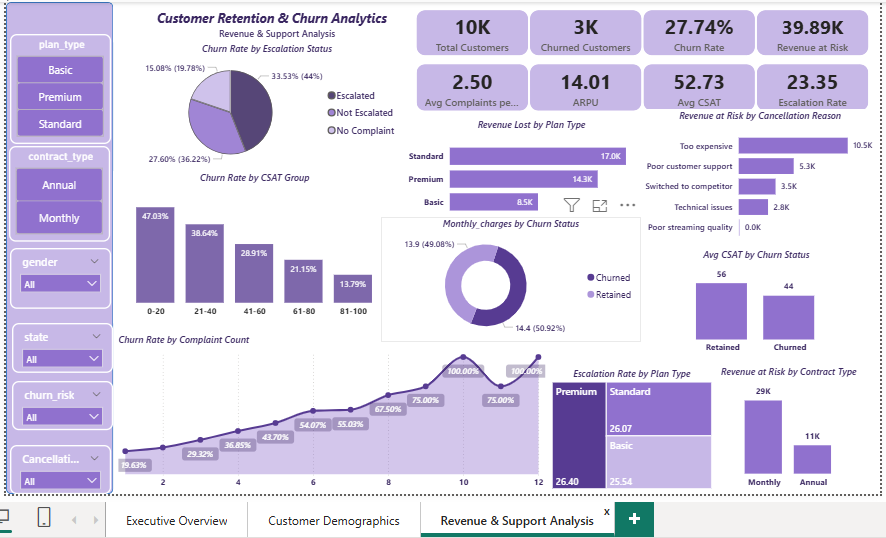

The page's visual inventory and layout, read from the dashboard file:
{"tool":"powerbi","page":{"name":"Revenue & Support Analysis","canvas":[1280,720],"ordinal":2},"visuals":[{"type":"cardVisual","fields":{"Data":["exported_churn_data_NEW.Avg Complaints per User","exported_churn_data_NEW.ARPU","exported_churn_data_NEW.Avg CSAT","exported_churn_data_NEW.Escalation Rate"]},"box":[583.9,79,695.1,92.2],"z":0},{"type":"pieChart","fields":{"Category":["exported_churn_data_NEW.Escalation Status"],"Y":["exported_churn_data_NEW.Churn Rate"]},"box":[181.3,58.4,401.1,189],"z":1000},{"type":"cardVisual","fields":{"Data":["exported_churn_data_NEW.Total Customers","exported_churn_data_NEW.Churned Customers","exported_churn_data_NEW.Churn Rate","exported_churn_data_NEW.Revenue at Risk"]},"box":[583.9,0,696.6,90.7],"z":2000},{"type":"shape","box":[0,0,157,720],"z":3000},{"type":"shape","box":[153.7,0,553.2,49.8],"z":4000},{"type":"textbox","box":[156.6,0,425.9,58.5],"z":5000},{"type":"clusteredColumnChart","fields":{"Category":["exported_churn_data_NEW.CSAT Group"],"Y":["exported_churn_data_NEW.Churn Rate"]},"box":[156.7,247.4,414.9,222.8],"z":6000},{"type":"lineChart","title":"Churn Rate by Complaint Count","fields":{"Category":["exported_churn_data_NEW.complaint_count"],"Y":["exported_churn_data_NEW.Churn Rate"]},"box":[159.8,484,634.6,236.6],"z":7000},{"type":"advancedSlicerVisual","fields":{"Values":["exported_churn_data_NEW.plan_type"]},"box":[5.9,46.8,147.8,161],"z":8000},{"type":"advancedSlicerVisual","fields":{"Values":["exported_churn_data_NEW.contract_type"]},"box":[4.4,210.7,147.8,140.5],"z":9000},{"type":"slicer","fields":{"Values":["exported_churn_data_NEW.gender"]},"box":[5.9,360,147.8,89.3],"z":10000},{"type":"slicer","fields":{"Values":["exported_churn_data_NEW.state"]},"box":[8.8,469.8,147.8,73.2],"z":11000},{"type":"slicer","fields":{"Values":["exported_churn_data_NEW.churn_risk"]},"box":[8.8,554.6,147.8,71.7],"z":12000},{"type":"slicer","fields":{"Values":["exported_churn_data_NEW.Cancellation Year"]},"box":[5.9,648.3,147.8,71.7],"z":13000},{"type":"barChart","title":"Revenue Lost by Plan Type","fields":{"Category":["exported_churn_data_NEW.plan_type"],"Y":["exported_churn_data_NEW.Revenue at Risk"]},"box":[582.4,169,373.4,155.2],"z":14000},{"type":"clusteredColumnChart","fields":{"Category":["exported_churn_data_NEW.Churn Status"],"Y":["exported_churn_data_NEW.Avg CSAT"]},"box":[916.1,360,364.4,163.9],"z":15000},{"type":"donutChart","title":"Monthly_charges by Churn Status","fields":{"Category":["exported_churn_data_NEW.Churn Status"],"Y":["Avg(exported_churn_data_NEW.monthly_charges)"]},"box":[548.8,314.6,380.5,182.9],"z":16000},{"type":"barChart","title":"Revenue at Risk by Cancellation Reason","fields":{"Category":["exported_churn_data_NEW.cancellation_reason"],"Y":["Sum(exported_churn_data_NEW.monthly_charges)"]},"box":[929.7,156.7,348.8,202.8],"z":17000},{"type":"clusteredColumnChart","title":"Revenue at Risk by Contract Type","fields":{"Category":["exported_churn_data_NEW.contract_type"],"Y":["exported_churn_data_NEW.Revenue at Risk"]},"box":[1011.1,531.7,268.9,189],"z":18000},{"type":"treemap","title":"Escalation Rate by Plan Type","fields":{"Group":["exported_churn_data_NEW.plan_type"],"Values":["exported_churn_data_NEW.Escalation Rate %"]},"box":[794.4,534.7,242.8,182.9],"z":19000}]}

Visuals, with their boxes on the page's 1280x720 design canvas (x1, y1, x2, y2). These are canvas units, not pixel positions in the 886x538 screenshot, which may show the page scaled, cropped or inside an application window:
cardVisual - exported_churn_data_NEW.Avg Complaints per User x exported_churn_data_NEW.ARPU: Rect(584, 79, 1279, 171)
pieChart - exported_churn_data_NEW.Escalation Status x exported_churn_data_NEW.Churn Rate: Rect(181, 58, 582, 247)
cardVisual - exported_churn_data_NEW.Total Customers x exported_churn_data_NEW.Churned Customers: Rect(584, 0, 1280, 91)
shape: Rect(0, 0, 157, 720)
shape: Rect(154, 0, 707, 50)
textbox: Rect(157, 0, 582, 58)
clusteredColumnChart - exported_churn_data_NEW.CSAT Group x exported_churn_data_NEW.Churn Rate: Rect(157, 247, 572, 470)
"Churn Rate by Complaint Count" lineChart: Rect(160, 484, 794, 721)
advancedSlicerVisual - exported_churn_data_NEW.plan_type: Rect(6, 47, 154, 208)
advancedSlicerVisual - exported_churn_data_NEW.contract_type: Rect(4, 211, 152, 351)
slicer - exported_churn_data_NEW.gender: Rect(6, 360, 154, 449)
slicer - exported_churn_data_NEW.state: Rect(9, 470, 157, 543)
slicer - exported_churn_data_NEW.churn_risk: Rect(9, 555, 157, 626)
slicer - exported_churn_data_NEW.Cancellation Year: Rect(6, 648, 154, 720)
"Revenue Lost by Plan Type" barChart: Rect(582, 169, 956, 324)
clusteredColumnChart - exported_churn_data_NEW.Churn Status x exported_churn_data_NEW.Avg CSAT: Rect(916, 360, 1280, 524)
"Monthly_charges by Churn Status" donutChart: Rect(549, 315, 929, 498)
"Revenue at Risk by Cancellation Reason" barChart: Rect(930, 157, 1278, 360)
"Revenue at Risk by Contract Type" clusteredColumnChart: Rect(1011, 532, 1280, 721)
"Escalation Rate by Plan Type" treemap: Rect(794, 535, 1037, 718)
